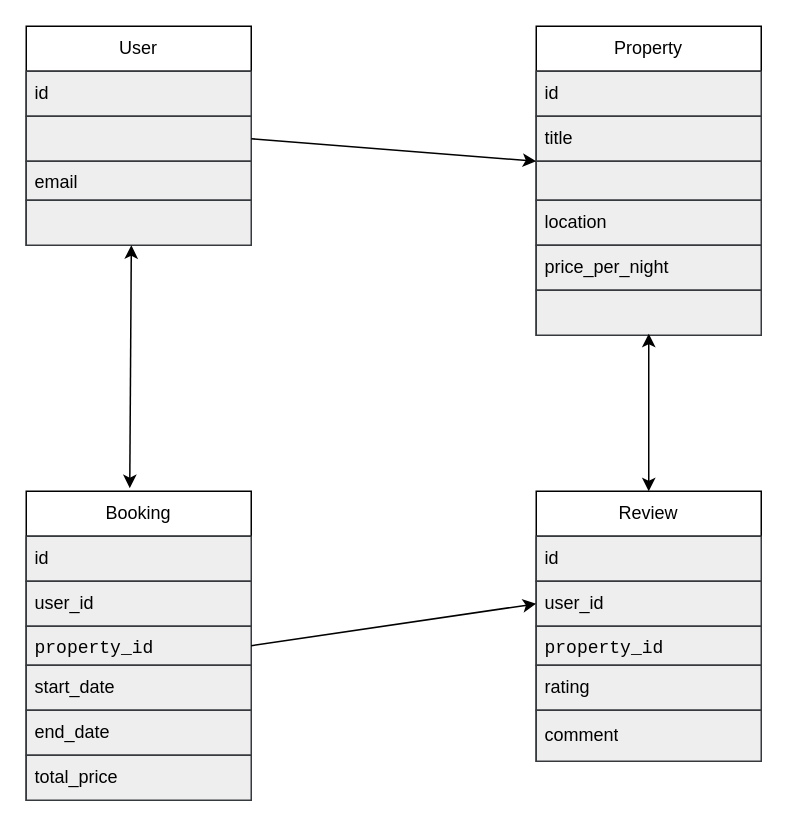
Some shapes in this 788 by 827 pixel diagram are drawn without their labels. The centre of each missing label's shape, as x and y in pixels:
"description" goes at point 648,180.
"name" goes at point 138,138.
"owner_id" goes at point 648,312.
"password" goes at point 138,222.
